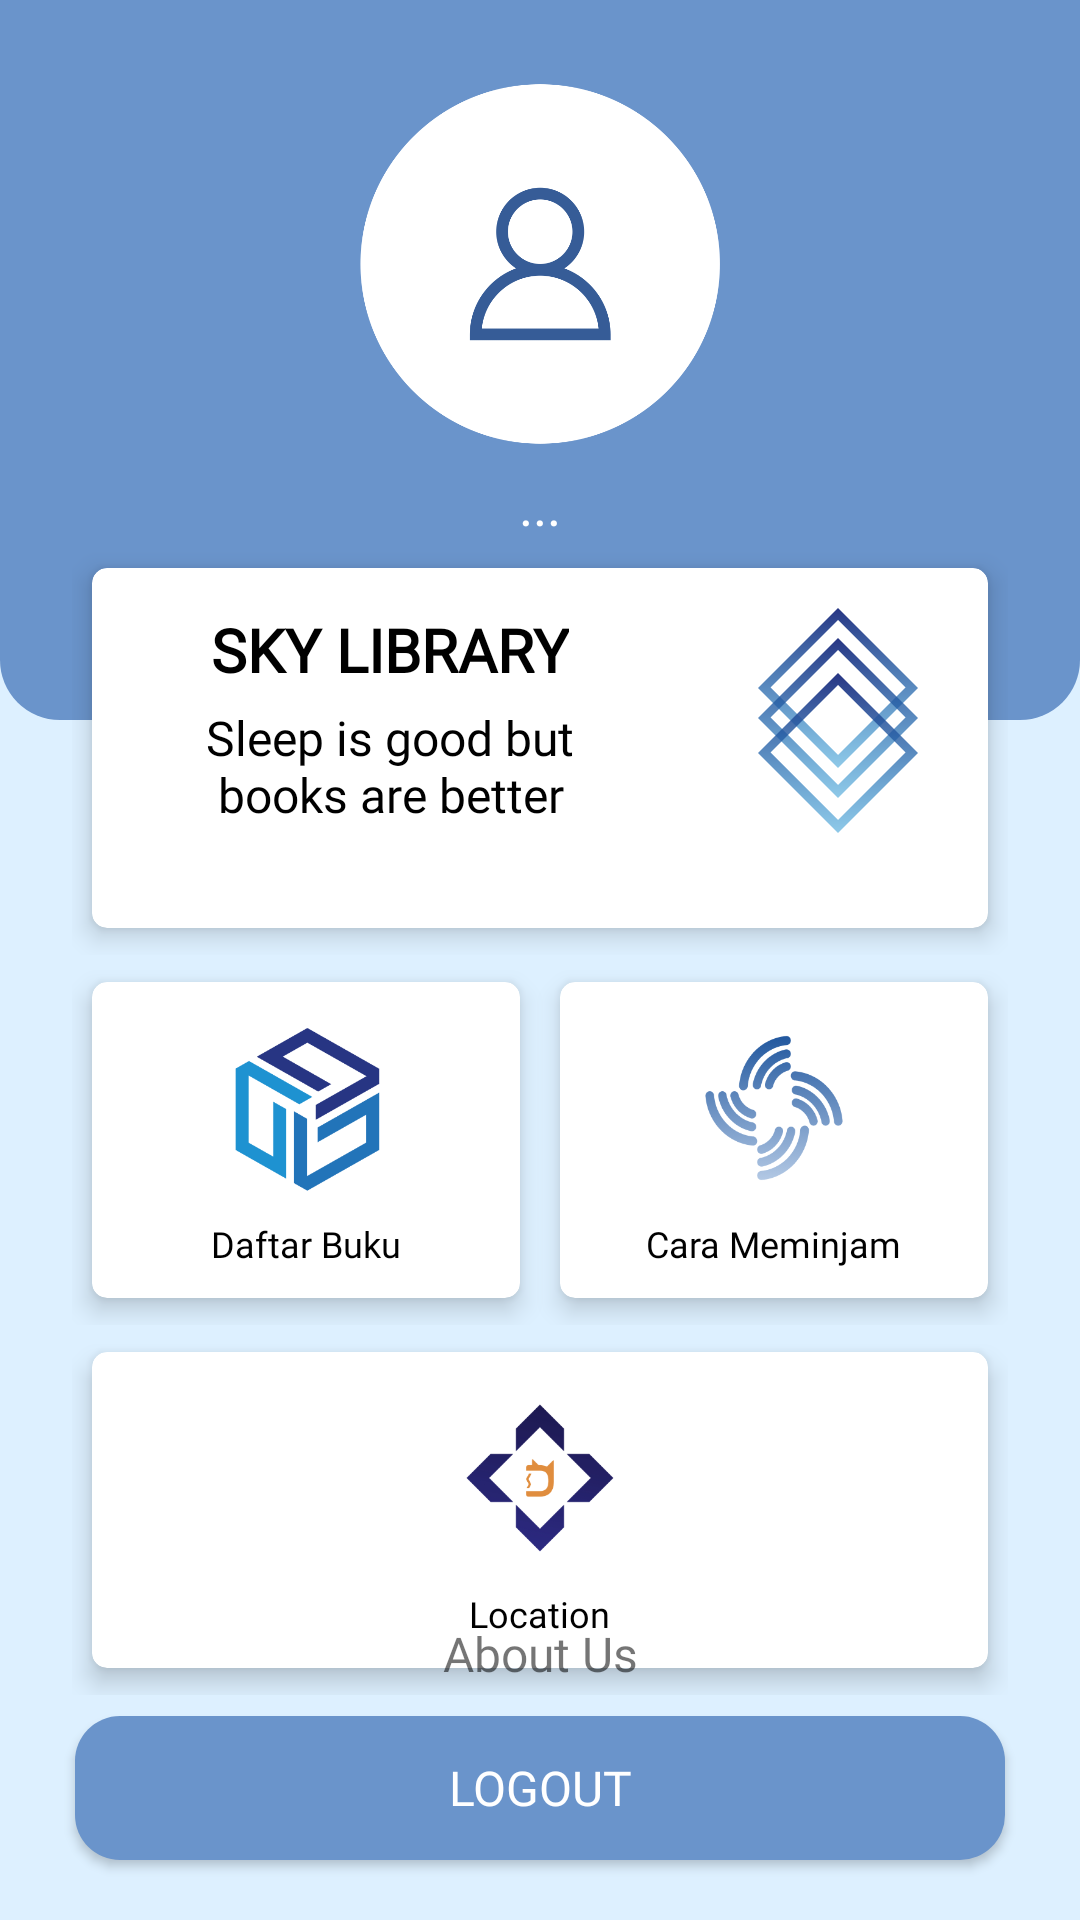

Where icons sit on this 1080w x 1920h app screen, as detection(x1, y1, x2, y2):
profil: detection(360, 84, 720, 444)
